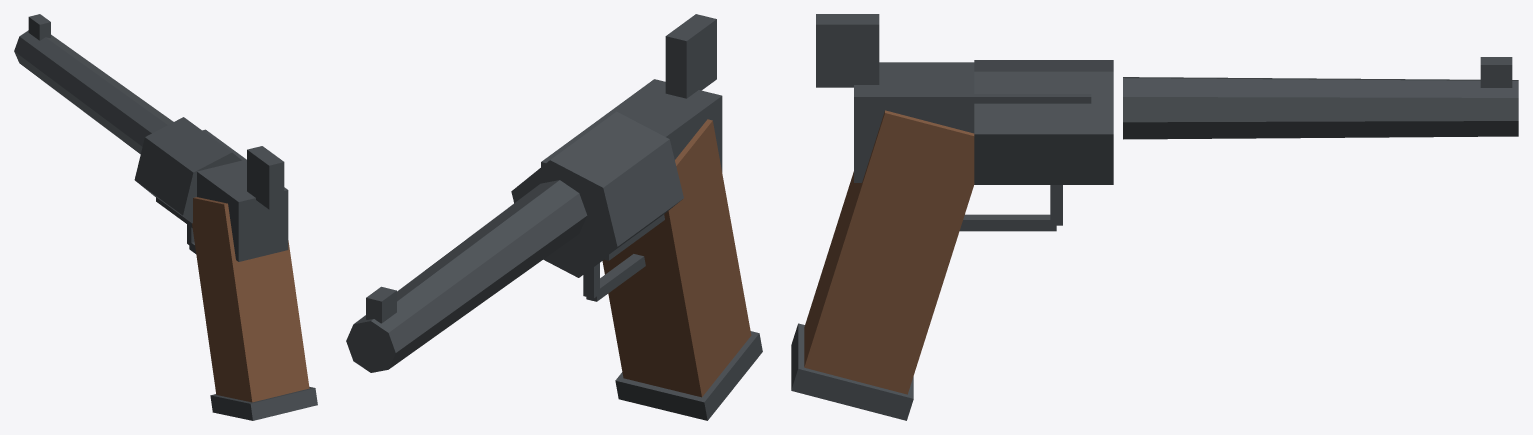
File: pistol.glb
3 renders of one model, left to right at view 1: azimuth 30°, elevation 25°; view 2: azimuth 150°, elevation 25°; view 3: azimuth 270°, elevation 25°, orthographic. The views are drawn at different scales.
Visible parts, largest first — view 1: PistolBody; view 2: PistolBody; view 3: PistolBody.
Boxes of the visible parts, <box> form: PistolBody: <box>14,14,317,420</box>; PistolBody: <box>346,14,762,420</box>; PistolBody: <box>791,14,1518,420</box>.
Bounding box in the file's own units: 0.0406 × 0.1321 × 0.2299.
